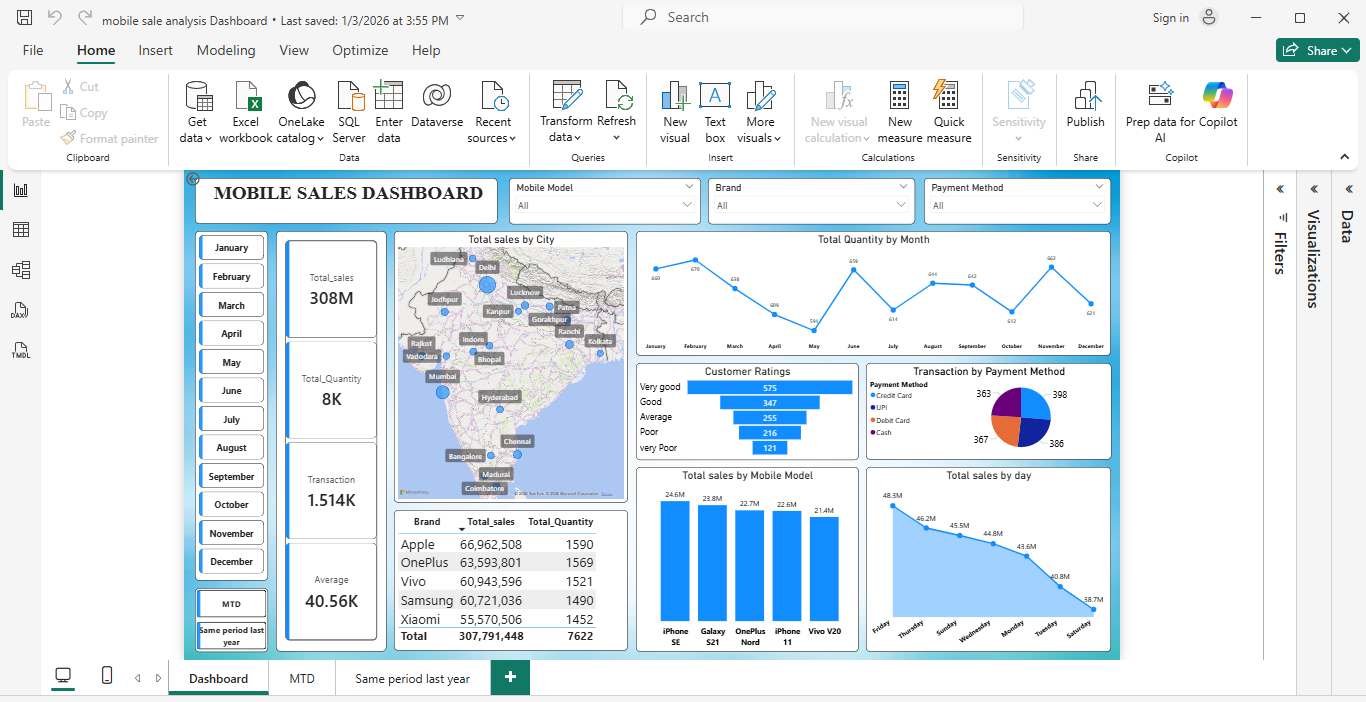

The page's visual inventory and layout, read from the dashboard file:
{"tool":"powerbi","page":{"name":"Dashboard","canvas":[2100,1100],"ordinal":0},"visuals":[{"type":"textbox","box":[25.2,18.3,678.6,103.2],"z":0},{"type":"advancedSlicerVisual","fields":{"Values":["custom_calender.Date.Variation.Date Hierarchy.Month"]},"box":[25.5,136.6,164.4,784.9],"z":1000},{"type":"cardVisual","fields":{"Data":["Mobile_Sale_Analysis.Total_sales","Mobile_Sale_Analysis.Total_Quantity","CountNonNull(Mobile_Sale_Analysis.Transaction ID)","Mobile_Sale_Analysis.Average_price"]},"box":[205.5,137.7,248.4,943.9],"z":2000},{"type":"slicer","fields":{"Values":["Mobile_Sale_Analysis.Mobile Model"]},"box":[729.4,18.1,431.3,103.9],"z":3000},{"type":"slicer","fields":{"Values":["Mobile_Sale_Analysis.Payment Method"]},"box":[1661.9,18.1,420,103.9],"z":4000},{"type":"slicer","fields":{"Values":["Mobile_Sale_Analysis.Brand"]},"box":[1176.5,18.1,465.2,103.9],"z":5000},{"type":"map","title":"Total sales by City","fields":{"Size":["Mobile_Sale_Analysis.Total_sales"],"Category":["Mobile_Sale_Analysis.City"]},"box":[472.3,137.6,525,609.8],"z":6000},{"type":"lineChart","title":"Total Quantity by Month","fields":{"Category":["custom_calender.Date.Variation.Date Hierarchy.Month"],"Y":["Mobile_Sale_Analysis.Total_Quantity"]},"box":[1015.6,137.6,1066,279.7],"z":7000},{"type":"funnel","title":"Customer Ratings ","fields":{"Y":["CountNonNull(Mobile_Sale_Analysis.Customer Ratings)"],"Category":["Mobile_Sale_Analysis.Rating Status"]},"box":[1015.6,433.3,499.8,217.8],"z":8000},{"type":"pieChart","title":"Transaction by Payment Method","fields":{"Category":["Mobile_Sale_Analysis.Payment Method"],"Y":["CountNonNull(Mobile_Sale_Analysis.Transaction)"]},"box":[1531,433.5,551,216.8],"z":9000},{"type":"clusteredColumnChart","title":"Total sales by Mobile Model","fields":{"Category":["Mobile_Sale_Analysis.Mobile Model"],"Y":["Mobile_Sale_Analysis.Total_sales"]},"box":[1015.6,667.1,499.8,415],"z":10000},{"type":"areaChart","title":"Total sales by day","fields":{"Y":["Mobile_Sale_Analysis.Total_sales"],"Category":["custom_calender.DayName"]},"box":[1531.4,667.1,550.2,415],"z":11000},{"type":"tableEx","fields":{"Values":["Mobile_Sale_Analysis.Brand","Mobile_Sale_Analysis.Total_sales","Mobile_Sale_Analysis.Total_Quantity"]},"box":[472.3,763.4,525,316.4],"z":12000},{"type":"actionButton","box":[0,0,100,40],"z":13000},{"type":"pageNavigator","box":[25.5,937.7,164.4,143.6],"z":13500}]}

Visuals, with their boxes on the page's 2100x1100 design canvas (x1, y1, x2, y2). These are canvas units, not pixel positions in the 1366x702 screenshot, which may show the page scaled, cropped or inside an application window:
textbox: bbox(25, 18, 704, 122)
advancedSlicerVisual - custom_calender.Date.Variation.Date Hierarchy.Month: bbox(26, 137, 190, 922)
cardVisual - Mobile_Sale_Analysis.Total_sales x Mobile_Sale_Analysis.Total_Quantity: bbox(206, 138, 454, 1082)
slicer - Mobile_Sale_Analysis.Mobile Model: bbox(729, 18, 1161, 122)
slicer - Mobile_Sale_Analysis.Payment Method: bbox(1662, 18, 2082, 122)
slicer - Mobile_Sale_Analysis.Brand: bbox(1176, 18, 1642, 122)
"Total sales by City" map: bbox(472, 138, 997, 747)
"Total Quantity by Month" lineChart: bbox(1016, 138, 2082, 417)
"Customer Ratings " funnel: bbox(1016, 433, 1515, 651)
"Transaction by Payment Method" pieChart: bbox(1531, 434, 2082, 650)
"Total sales by Mobile Model" clusteredColumnChart: bbox(1016, 667, 1515, 1082)
"Total sales by day" areaChart: bbox(1531, 667, 2082, 1082)
tableEx - Mobile_Sale_Analysis.Brand x Mobile_Sale_Analysis.Total_sales: bbox(472, 763, 997, 1080)
actionButton: bbox(0, 0, 100, 40)
pageNavigator: bbox(26, 938, 190, 1081)
